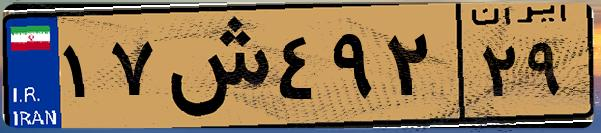1: (57, 26, 110, 100)
2: (385, 28, 445, 110), (475, 38, 525, 113)
4: (270, 28, 330, 110)
7: (110, 28, 158, 98)
9: (330, 28, 385, 110), (525, 38, 570, 115)
ش: (158, 12, 270, 120)
